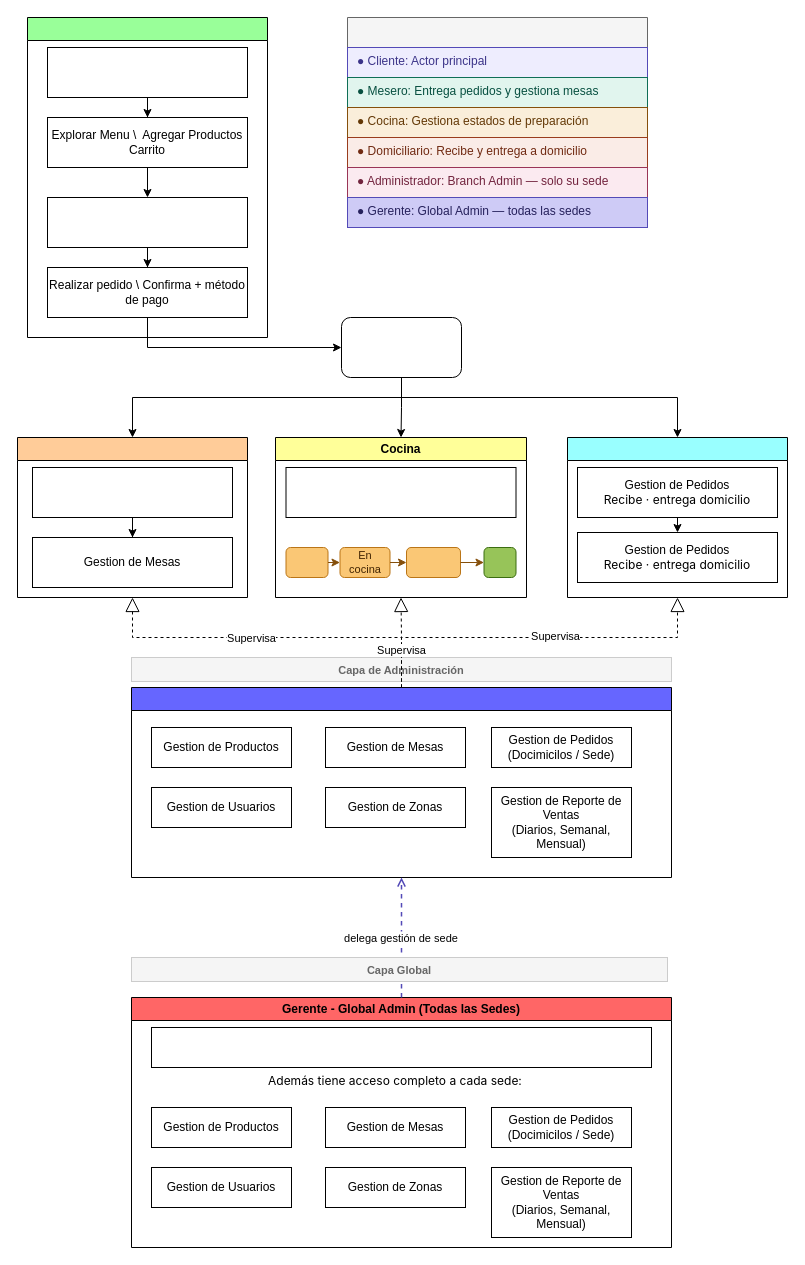
This 805x1265 diagram has some shape labels left out. Each missing label, with the box of its shape:
Actores del Sistema: (346, 16, 648, 228)
Administrador - Branch Admin (Por Sede): (130, 686, 672, 878)
Cliente: (26, 16, 268, 338)
Domiciliario: (566, 436, 788, 598)
Escanear QR \ Acceder al Menu: (46, 46, 248, 98)
Gestion de Pedidods: (32, 466, 232, 518)
Gestion de Pedidos Nuevo → En Cocina → Preparando → Listo: (285, 466, 516, 518)
Gestion de Sedes (tenants) Crear · editar · activar / desactivar sedes: (150, 1026, 652, 1068)
Gestionar Carrito \ Agregar / editar ítems: (46, 196, 248, 248)
Listo: (483, 546, 516, 578)
Mesero: (16, 436, 248, 598)
Nuevo: (285, 546, 328, 578)
Pedido Generado: (340, 316, 462, 378)
Preparando: (406, 546, 460, 578)
